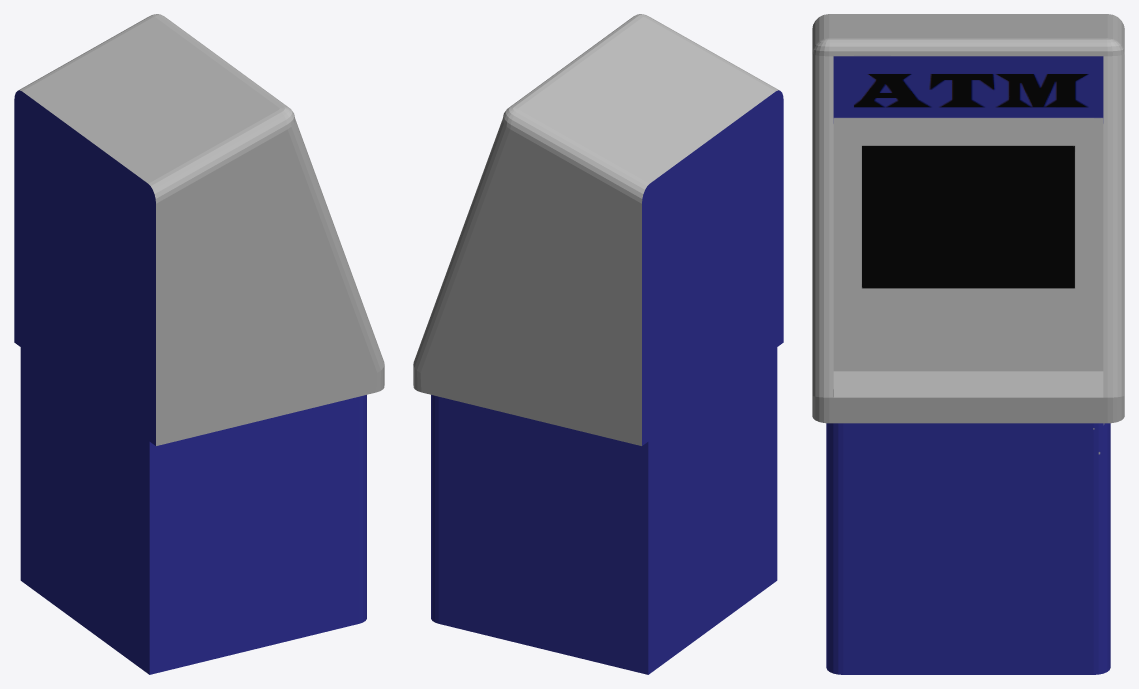
File: atm.fbx
The picture shows the model from 3 angles, left to right: view 1: azimuth 30°, elevation 25°; view 2: azimuth 150°, elevation 25°; view 3: azimuth 270°, elevation 25°; orthographic projection. The views are drawn at different scales.
Visible parts, largest first — view 1: Cube; view 2: Cube; view 3: Cube.
Part boxes in pixels (bbox=[...]): Cube: bbox=[14, 14, 384, 674]; Cube: bbox=[413, 14, 783, 674]; Cube: bbox=[812, 14, 1124, 674].
Size of the model in its own units: 110 by 105 by 228.
1 material, 1 textured.
